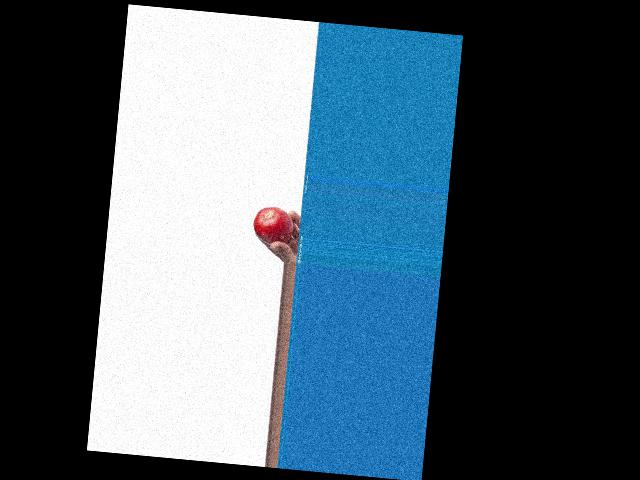tomato: (252, 205, 295, 246)
